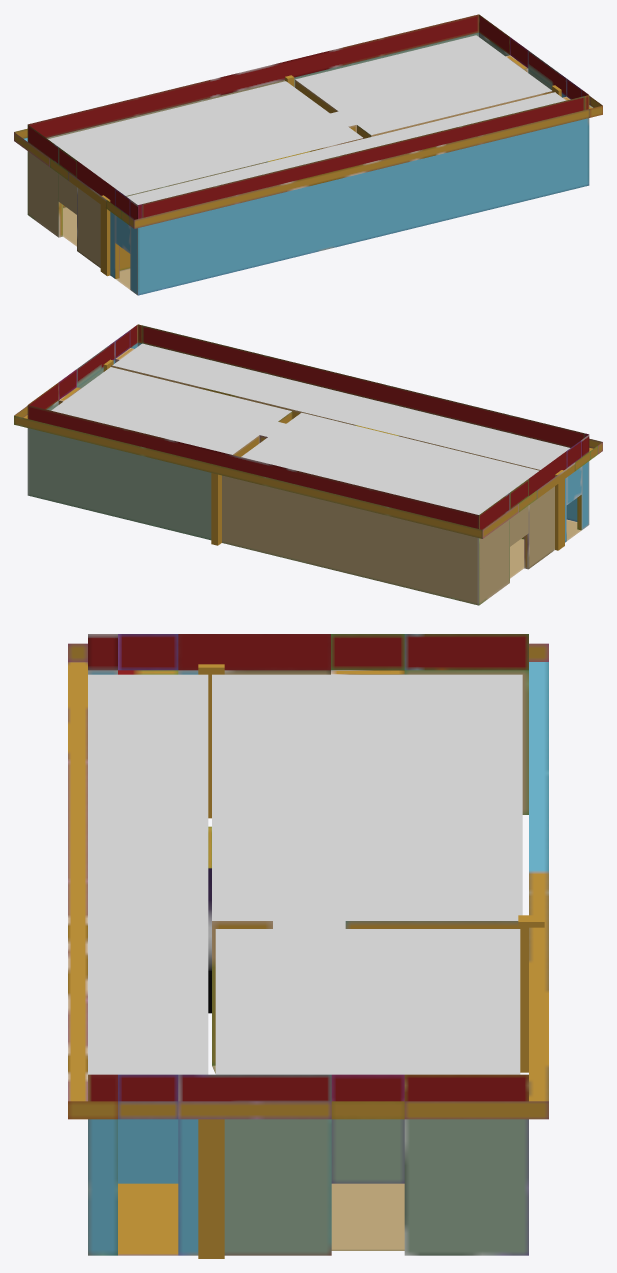
The model's file is m_bat08.fbx.
The picture shows the model from 3 angles, top to bottom: view 1: azimuth 30°, elevation 25°; view 2: azimuth 150°, elevation 25°; view 3: azimuth 270°, elevation 25°; orthographic projection. The views are drawn at different scales.
Parts seen in each view (by area): view 1: Cube.006; view 2: Cube.006; view 3: Cube.006.
Boxes of the visible parts, x1,y1,x2,y2 form: Cube.006: [14, 14, 602, 295]; Cube.006: [14, 324, 602, 605]; Cube.006: [68, 634, 548, 1258].
Size of the model in its own units: 5400 by 997 by 2400.
Materials: 1 (1 with a texture image).
